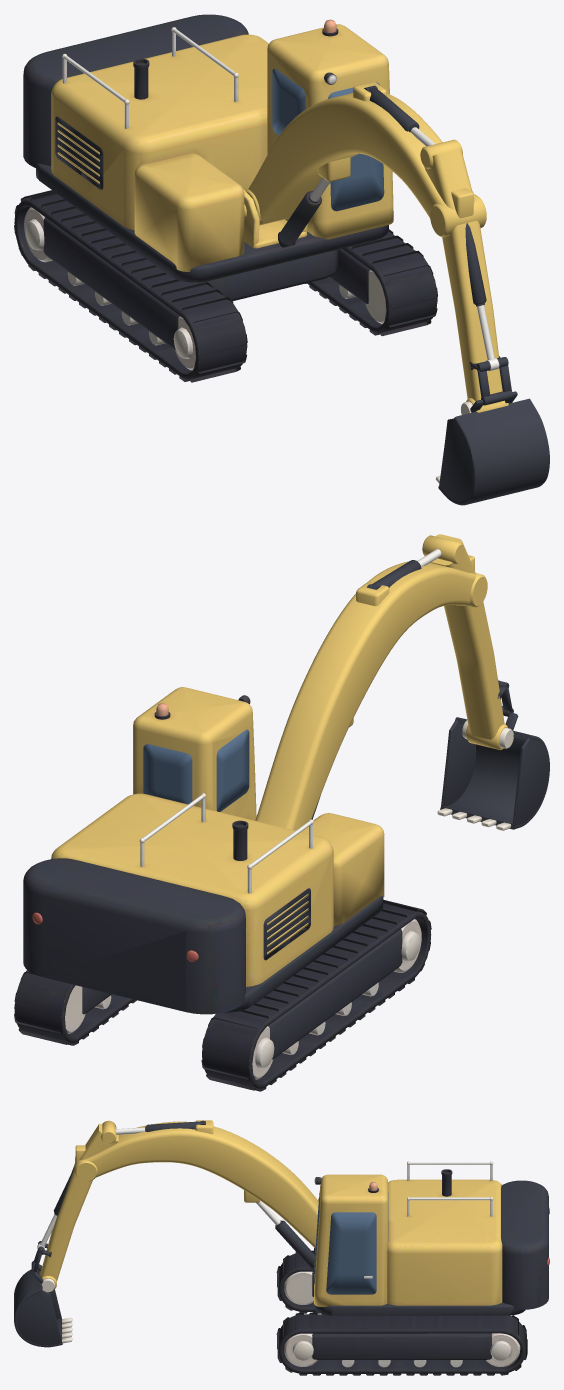
Rendered from excavator.glb.
3 views of the same model, one above another, from view 1: azimuth 30°, elevation 25°; view 2: azimuth 150°, elevation 25°; view 3: azimuth 270°, elevation 25° (orthographic). The views are drawn at different scales.
Parts seen in each view (by area): view 1: excavator_upper, excavator_body, excavator_boom, excavator_arm, excavator_bucket, excavator_windows; view 2: excavator_upper, excavator_body, excavator_boom, excavator_bucket, excavator_arm, excavator_windows; view 3: excavator_upper, excavator_body, excavator_boom, excavator_windows, excavator_arm, excavator_bucket.
Part boxes in pixels (x1=…): excavator_upper: x1=23, y1=14, x2=393, y2=282; excavator_body: x1=14, y1=190, x2=437, y2=382; excavator_boom: x1=245, y1=82, x2=486, y2=237; excavator_arm: x1=410, y1=127, x2=513, y2=412; excavator_bucket: x1=435, y1=391, x2=549, y2=505; excavator_windows: x1=272, y1=68, x2=384, y2=211; excavator_upper: x1=23, y1=687, x2=384, y2=1014; excavator_body: x1=14, y1=899, x2=431, y2=1091; excavator_boom: x1=255, y1=560, x2=487, y2=830; excavator_bucket: x1=437, y1=712, x2=549, y2=830; excavator_arm: x1=417, y1=534, x2=513, y2=750; excavator_windows: x1=143, y1=729, x2=249, y2=811; excavator_upper: x1=275, y1=1161, x2=549, y2=1315; excavator_body: x1=276, y1=1250, x2=527, y2=1375; excavator_boom: x1=75, y1=1120, x2=318, y2=1248; excavator_windows: x1=314, y1=1192, x2=388, y2=1294; excavator_arm: x1=31, y1=1120, x2=145, y2=1292; excavator_bucket: x1=14, y1=1264, x2=72, y2=1347.
Size of the model in its own units: 2.93 by 3.7 by 8.4.
7 materials, 2 textured.
